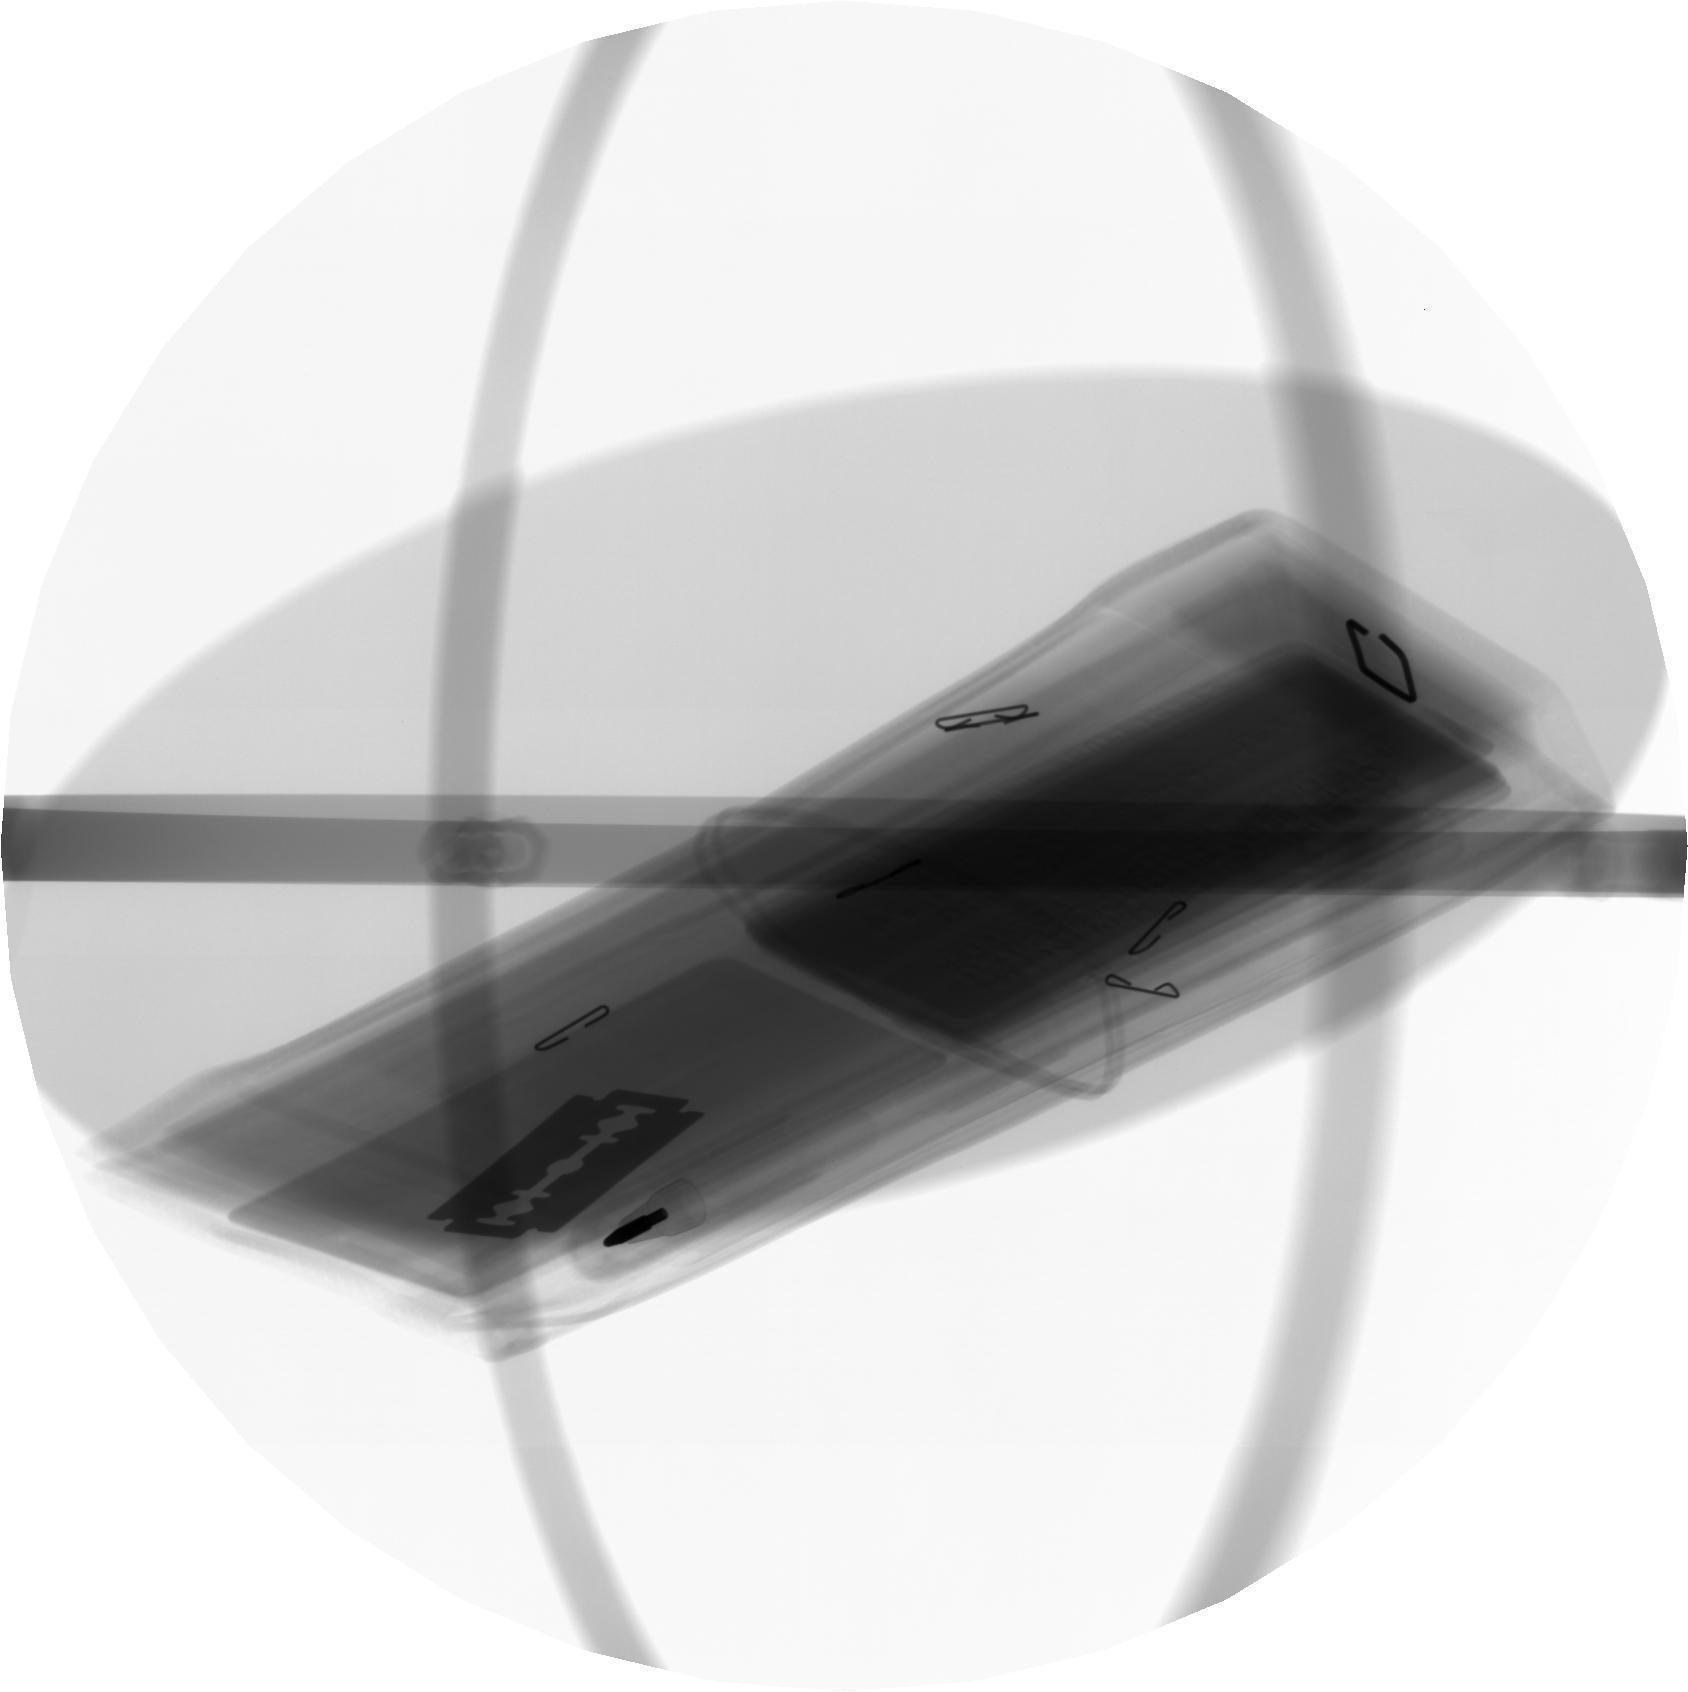RazorBlade: (425, 1082, 710, 1256)
